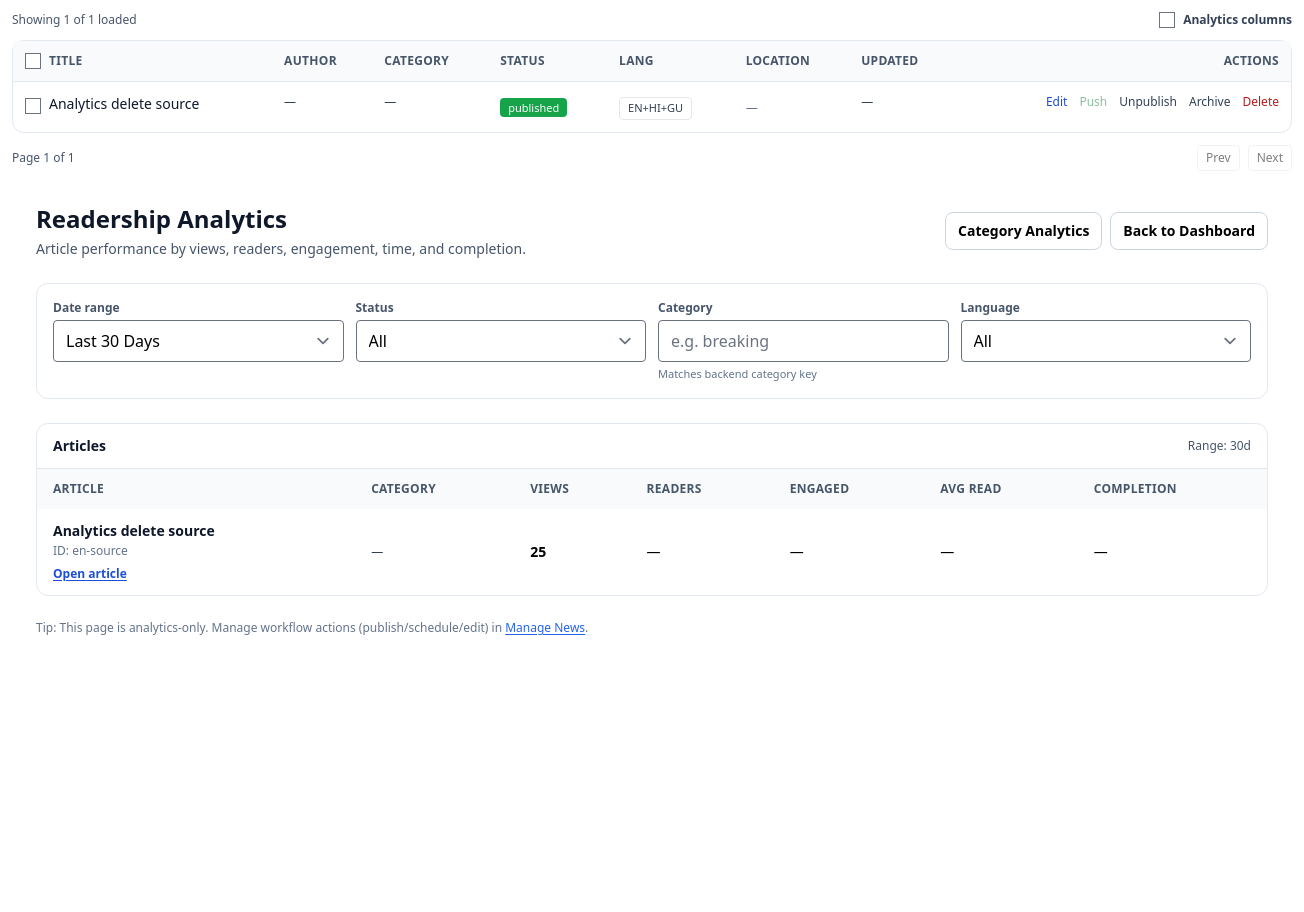
Test case: NewsTable article push modal › refreshes active article analytics so deleted stories do not remain after backend refresh
Check: the text "ID: en-source" is shown, box x1=53 y1=542 x2=128 y2=559
Click the button "Delete": point(1261, 102) x1=1242 y1=94 x2=1279 y2=110
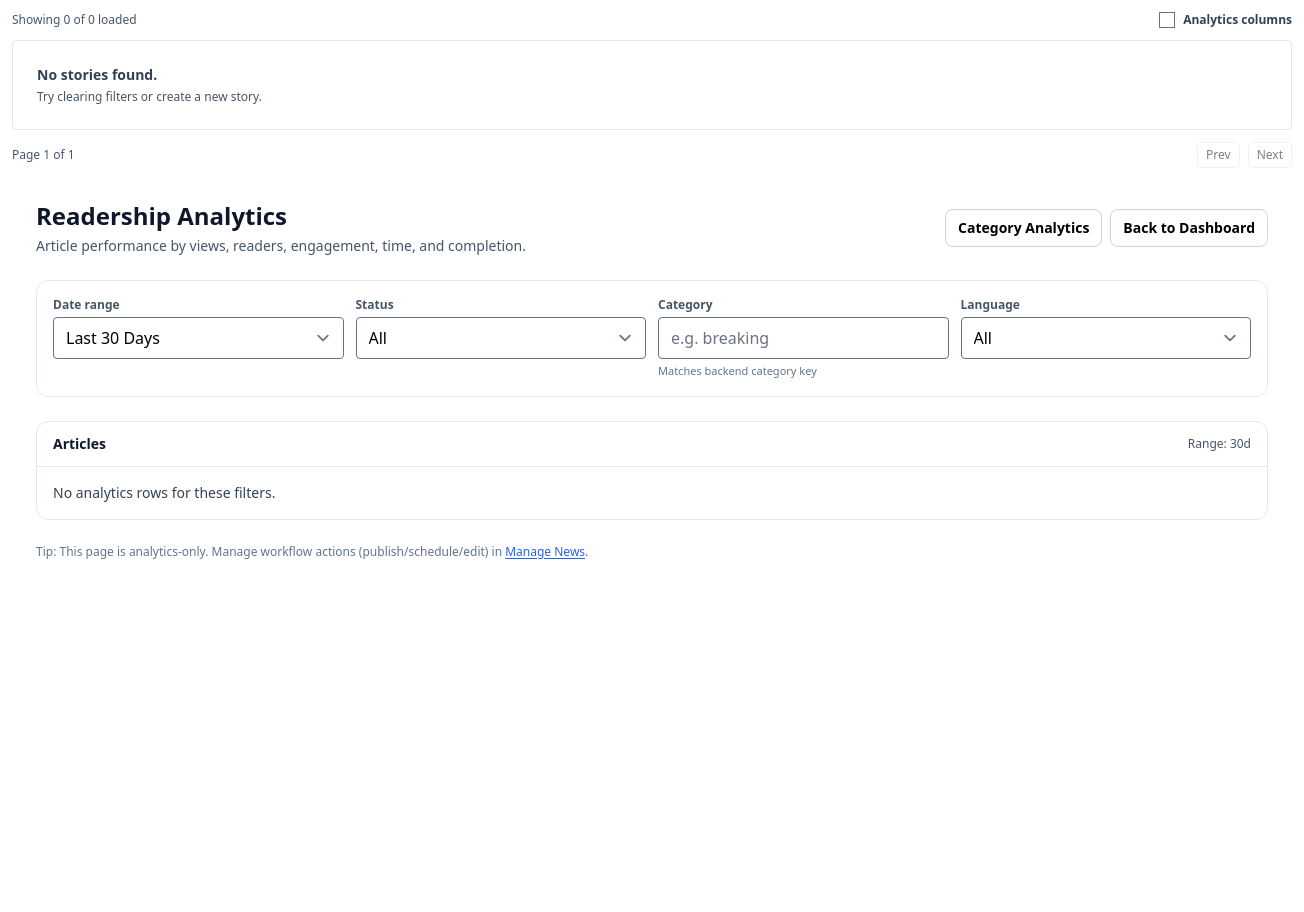
Check: the text "No analytics rows for these filters." is shown, box x1=53 y1=482 x2=275 y2=502
Check: the text "ID: en-source" is gone
